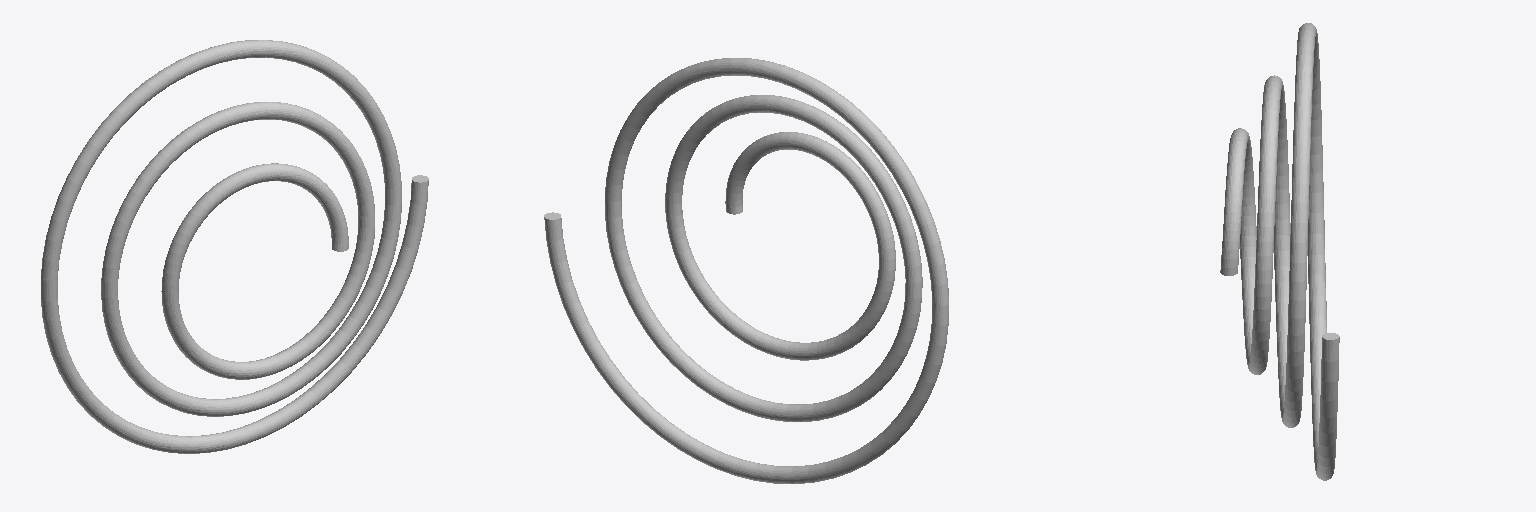
The model's file is spring.obj.
The picture shows the model from 3 angles: view 1: azimuth 30°, elevation 25°; view 2: azimuth 150°, elevation 25°; view 3: azimuth 270°, elevation 25°; orthographic projection.
Parts seen in each view (by area): view 1: Incredible_Jofo(6); view 2: Incredible_Jofo(6); view 3: Incredible_Jofo(6).
Boxes of the visible parts, box(x1,y1,x2,y2) form: Incredible_Jofo(6): box(41, 40, 428, 453); Incredible_Jofo(6): box(544, 58, 948, 483); Incredible_Jofo(6): box(1220, 23, 1339, 480).
Size of the model in its own units: 0.04 by 0.04 by 0.0105.